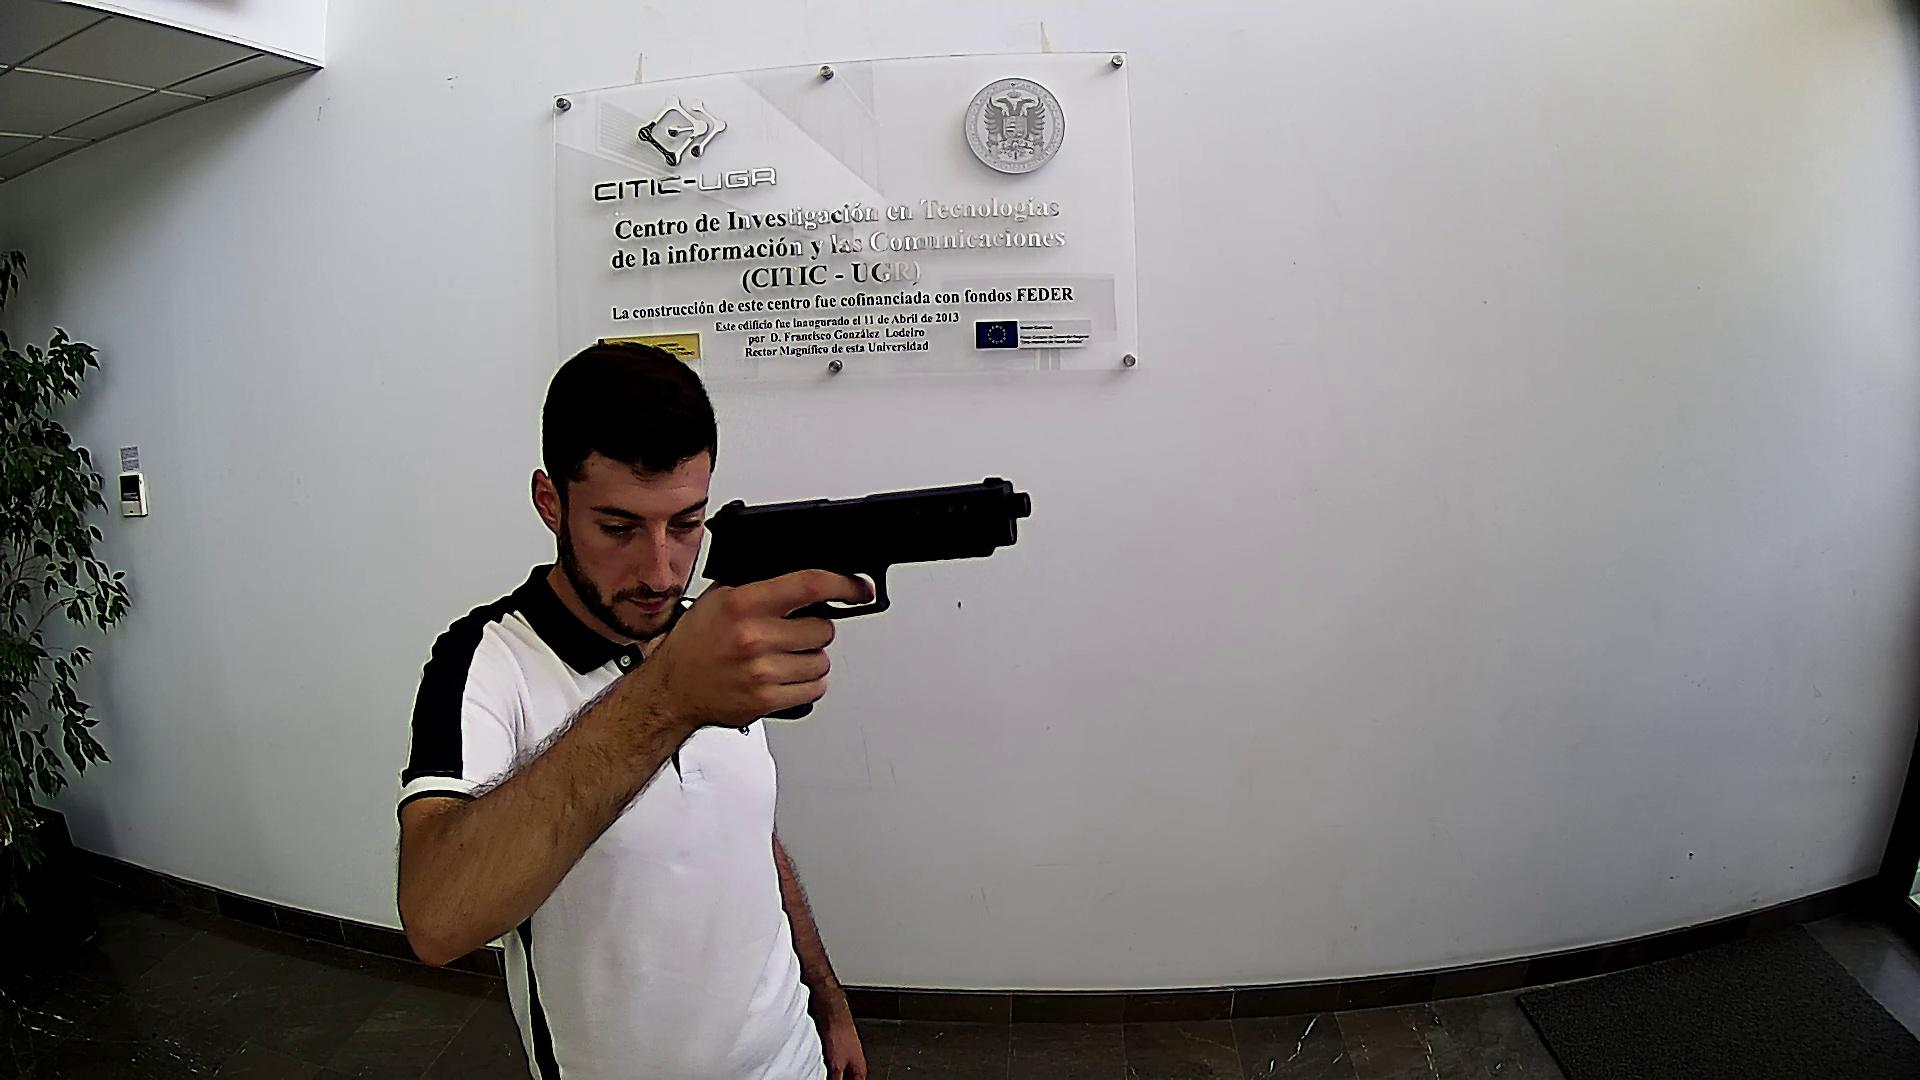criminal: (396, 342, 1036, 1080)
weapon: (702, 473, 1034, 719)
